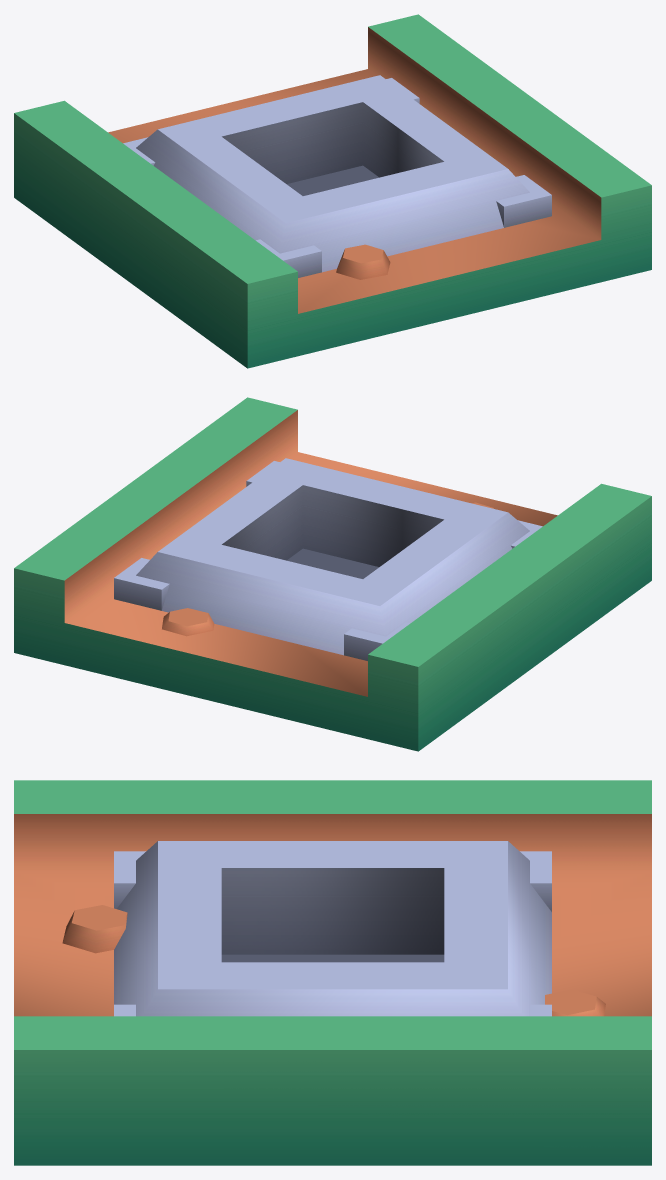
File: kenney-tower-defense-tile-spawn.glb
3 renders of one model, top to bottom at view 1: azimuth 30°, elevation 25°; view 2: azimuth 150°, elevation 25°; view 3: azimuth 270°, elevation 25°, orthographic. The views are drawn at different scales.
Parts seen in each view (by area): view 1: tile-spawn; view 2: tile-spawn; view 3: tile-spawn.
Boxes of the visible parts, left/top/right/bottom form: tile-spawn: left=14, top=14, right=651, bottom=368; tile-spawn: left=14, top=397, right=651, bottom=751; tile-spawn: left=14, top=780, right=651, bottom=1165.
Size of the model in its own units: 1 by 0.2 by 1.
1 material, 1 textured.
